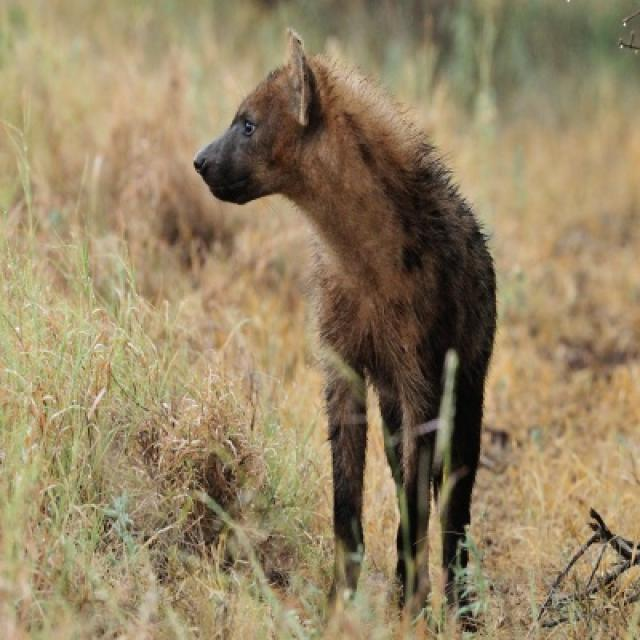hyena: (192, 32, 498, 637)
